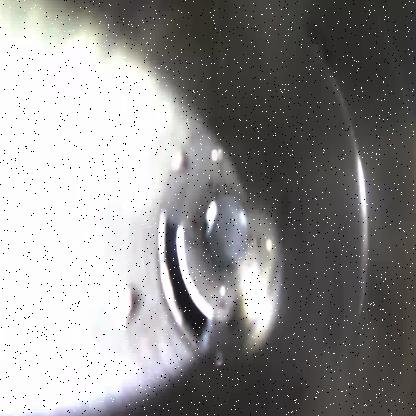Crack2: (156, 210, 212, 350)
